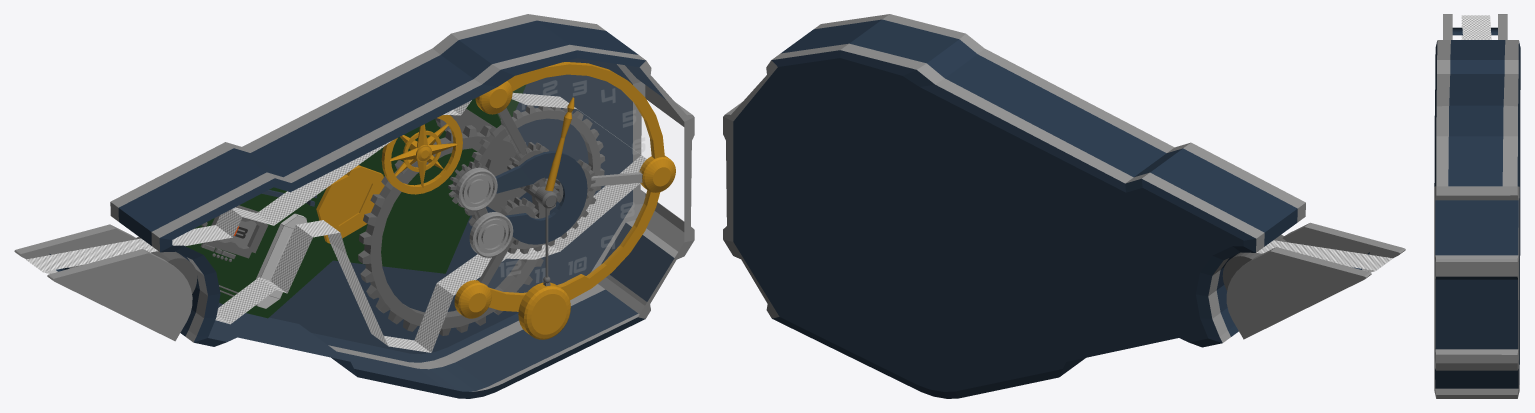
Rendered from correction tape 3.glb.
3 views of the same model, side by side, from view 1: azimuth 30°, elevation 25°; view 2: azimuth 150°, elevation 25°; view 3: azimuth 270°, elevation 25° (orthographic). The views are drawn at different scales.
Parts seen in each view (by area): view 1: body, tape, Plane, Cube.022, Cylinder.025, Cylinder.021, Cylinder.016, Cylinder.017, enginge, Cylinder.028, clock numbers, Cube.023 (+11 smaller); view 2: body, Cube.023, Cube.022, tape, Cylinder.039; view 3: body, tape, Cube.022, Cube.023, Cylinder.038.
Boxes of the visible parts, x1,y1,x2,y2 form: body: [110, 14, 694, 398]; tape: [26, 92, 646, 352]; Plane: [185, 84, 526, 318]; Cube.022: [47, 249, 192, 341]; Cylinder.025: [358, 125, 555, 335]; Cylinder.021: [489, 62, 664, 311]; Cylinder.016: [495, 151, 587, 244]; Cylinder.017: [464, 105, 605, 253]; enginge: [316, 165, 384, 243]; Cylinder.028: [518, 282, 570, 339]; clock numbers: [498, 80, 645, 283]; Cube.023: [14, 224, 136, 268]; body: [723, 14, 1305, 398]; Cube.023: [1226, 247, 1371, 339]; Cube.022: [1282, 222, 1405, 258]; tape: [1256, 240, 1392, 272]; Cylinder.039: [1222, 234, 1286, 290]; body: [1434, 40, 1520, 398]; tape: [1461, 15, 1491, 39]; Cube.022: [1443, 14, 1452, 39]; Cube.023: [1498, 14, 1507, 39]; Cylinder.038: [1452, 27, 1497, 35].
Bounding box in the file's own units: 7.24 × 3.51 × 1.03.
10 materials, 4 textured.
